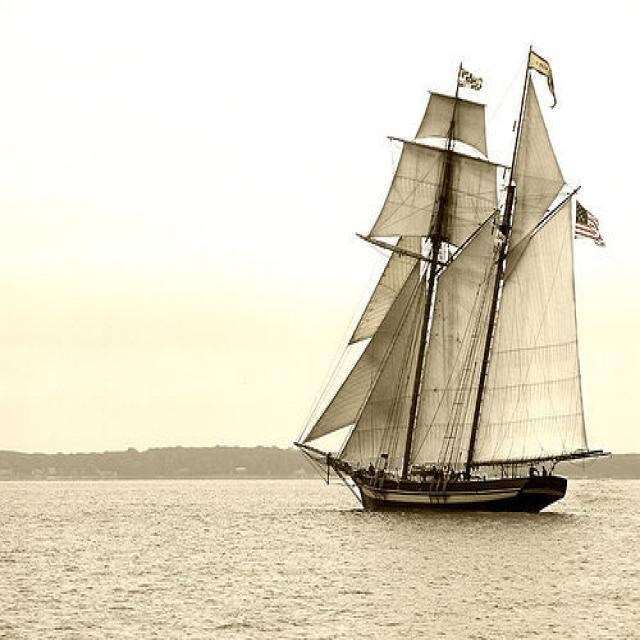Ship: (300, 40, 594, 524)
